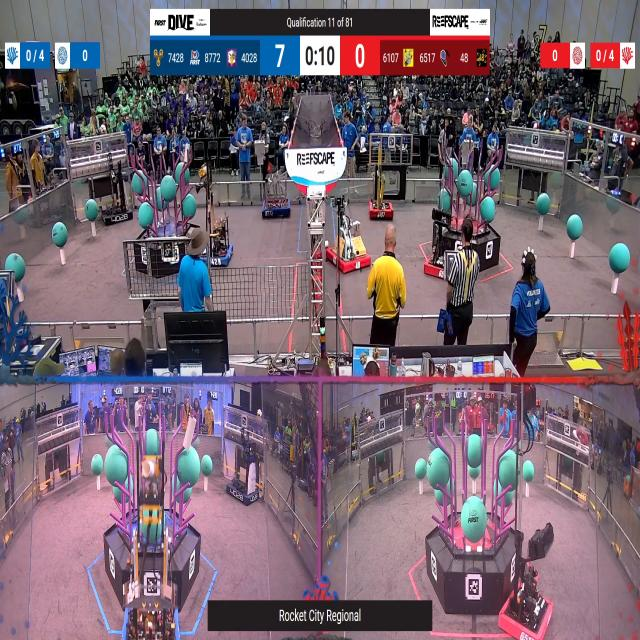scoreboard: (149, 35, 490, 75)
